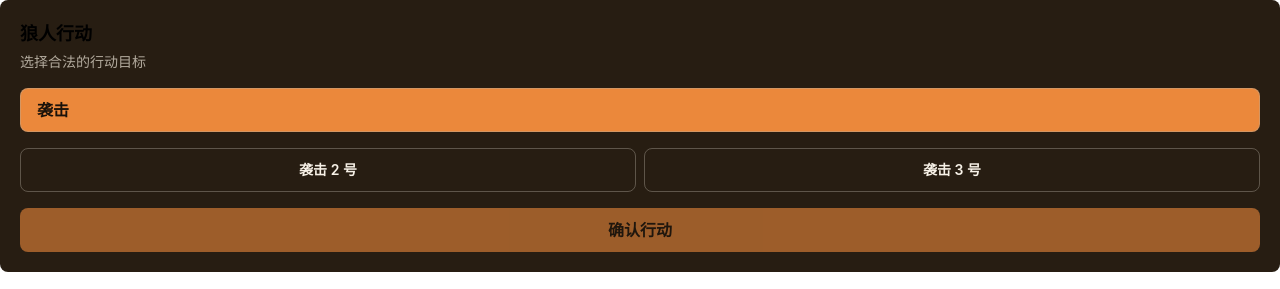
Test: NightActionScreen › starts without a selected target and blocks confirmation until one is chosen
The width and height of the screenshot is (1280, 289).
Expected: the button "确认行动" is disabled, [20, 208, 1260, 252]
Click the button with test id "night-target-2".
click(328, 170)  # box [20, 148, 636, 192]
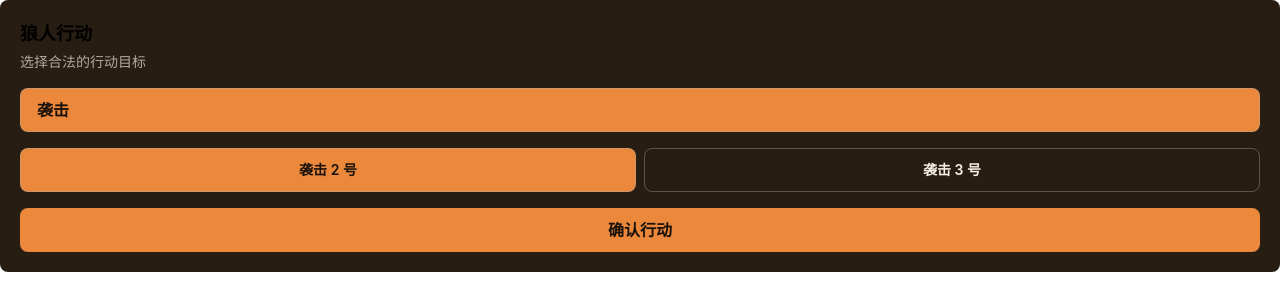
Expected: the button "确认行动" is enabled, [20, 208, 1260, 252]
